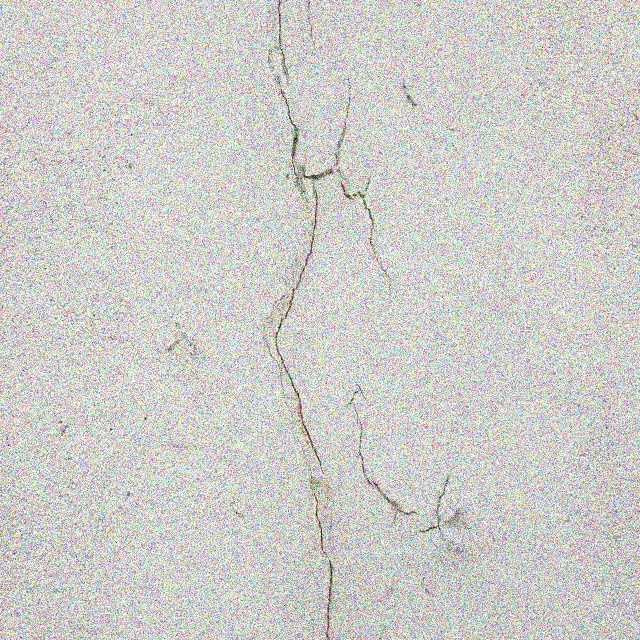SurfaceCrack: (225, 2, 490, 634)
